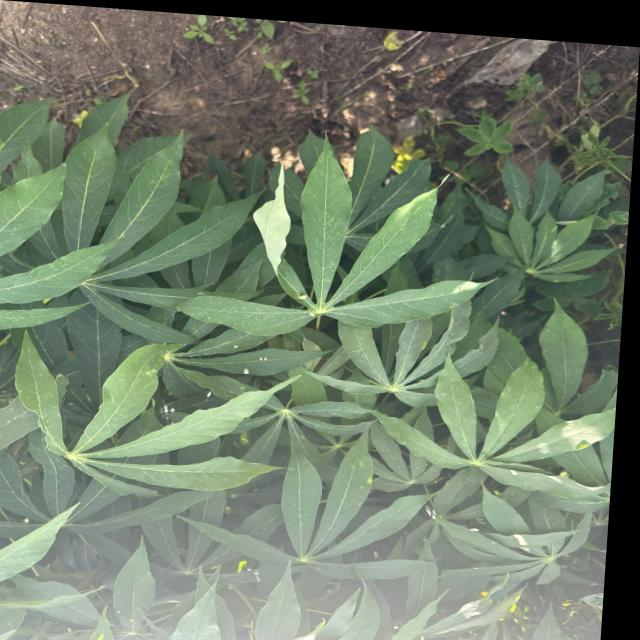Mosca: (280, 283, 321, 307), (227, 362, 261, 387), (359, 467, 384, 491), (230, 553, 253, 575), (14, 470, 37, 492), (500, 601, 525, 620), (472, 582, 493, 603), (40, 292, 59, 315), (573, 433, 596, 451), (552, 466, 572, 480)
